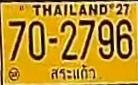0: (28, 20, 44, 59)
2: (60, 20, 76, 59)
6: (115, 18, 132, 58)
7: (8, 20, 25, 60), (78, 19, 94, 59)
9: (97, 19, 114, 58)
SKW: (46, 61, 98, 81)
